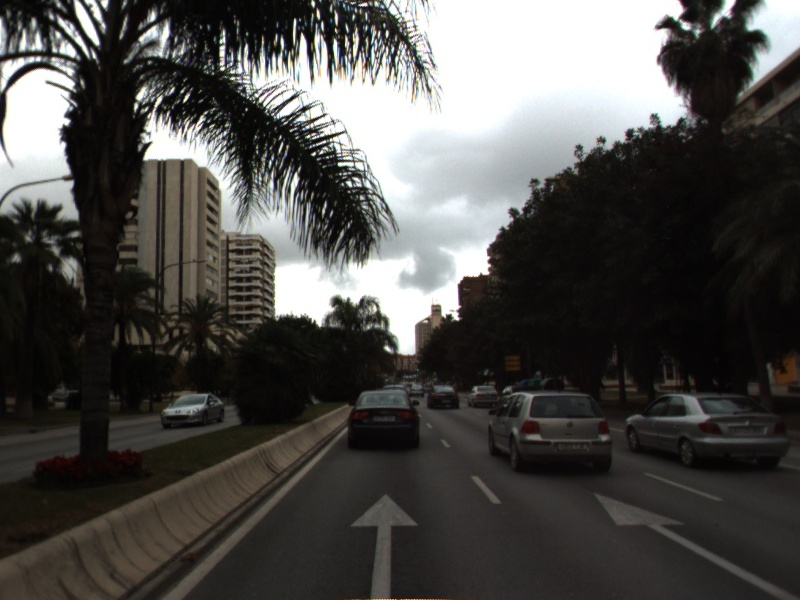STRAIGHT: (591, 490, 800, 600), (346, 488, 423, 600)
